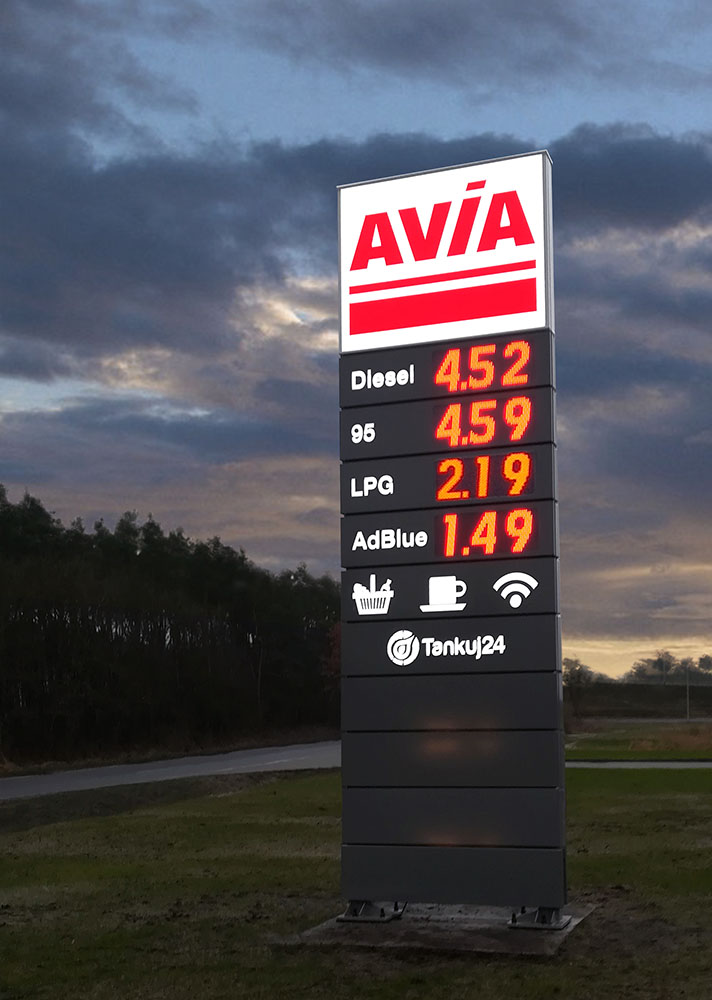LPG: (340, 462, 400, 510)
PB95: (336, 404, 386, 454)
